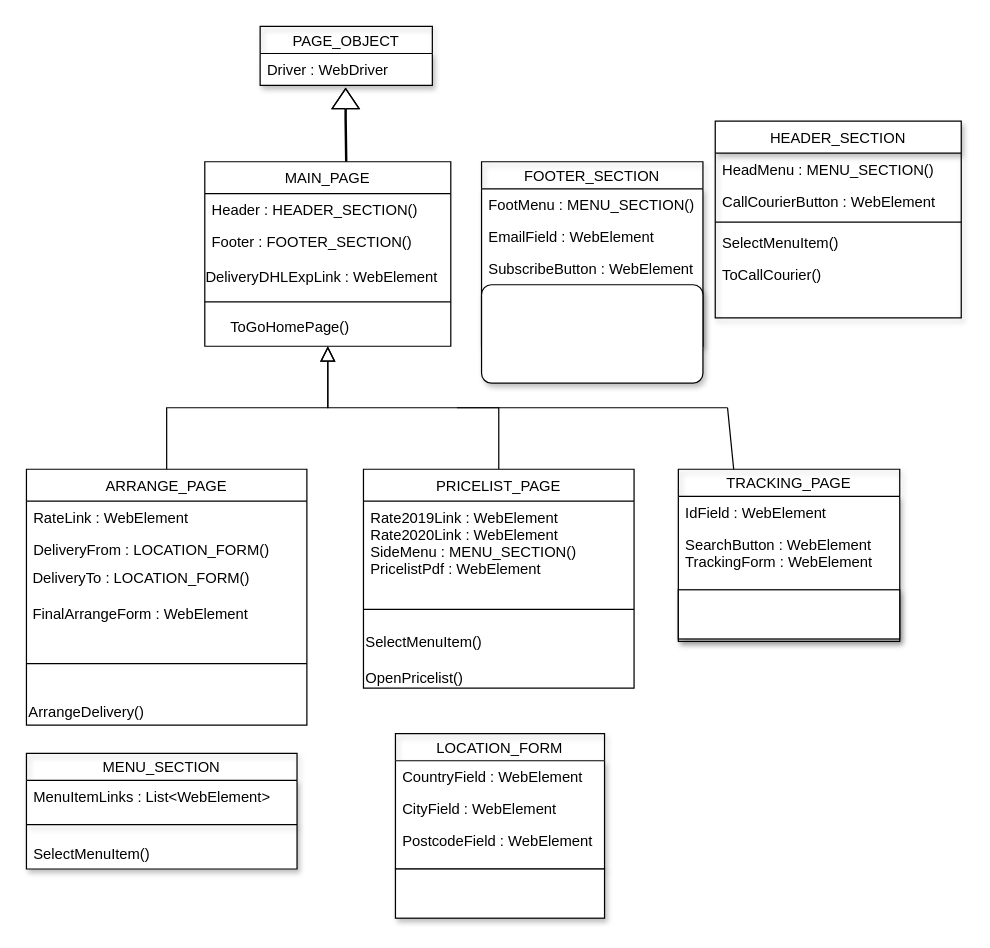
Some shapes in this 990 by 948 pixel diagram are drawn without their labels. The shapes that lost their labels are listed below. From the top down, each one's centre as x and y in pixels, then its label:
At [592,335]: "SelectMenuItem() ToSubscribe()".
At [789,616]: "TrackingDelivery()".
At [500,895]: "InputData()".
